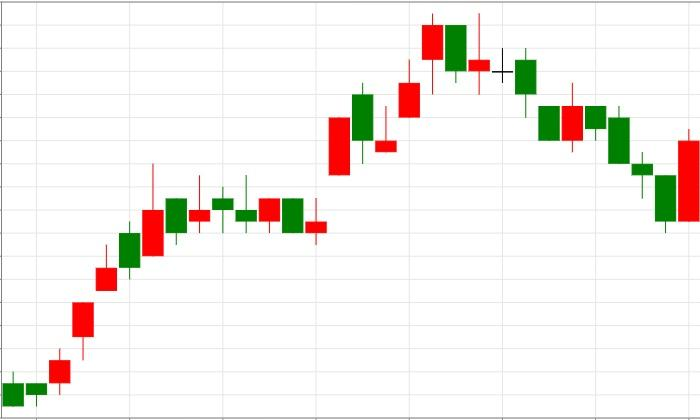bearish_engulfing_fall: (2, 164, 303, 407)
